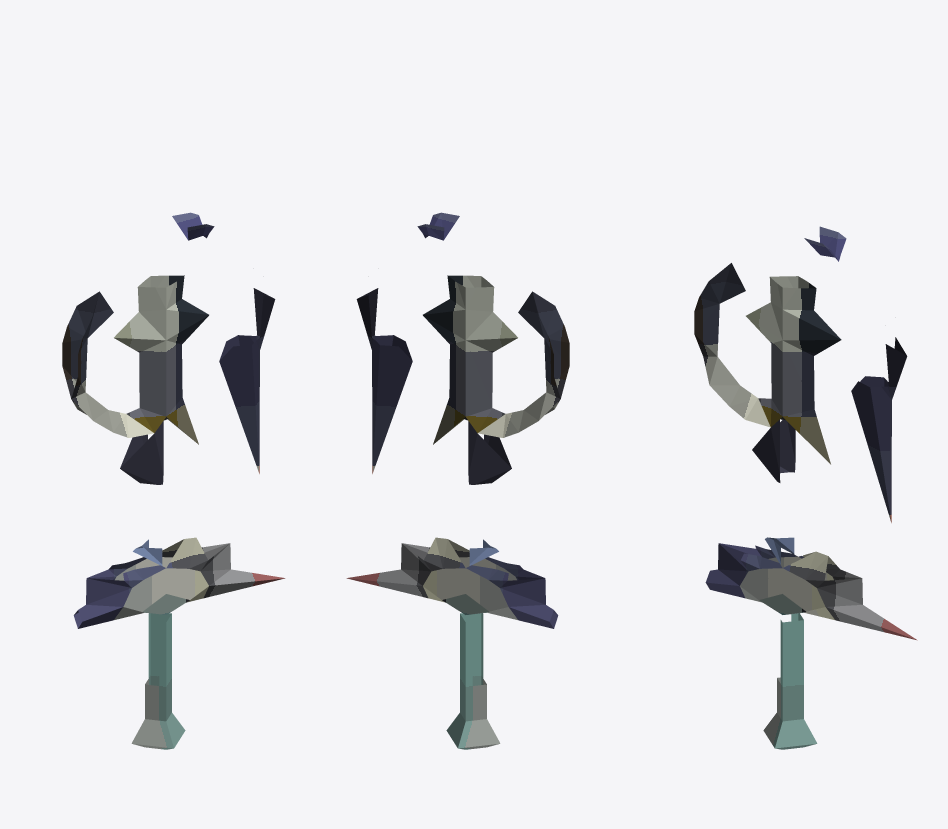
The model's file is astrologia.obj.
The picture shows the model from 3 angles, left to right: view 1: azimuth 30°, elevation 25°; view 2: azimuth 150°, elevation 25°; view 3: azimuth 330°, elevation 25°; orthographic projection.
Size of the model in its own units: 42.42 by 113 by 8.
